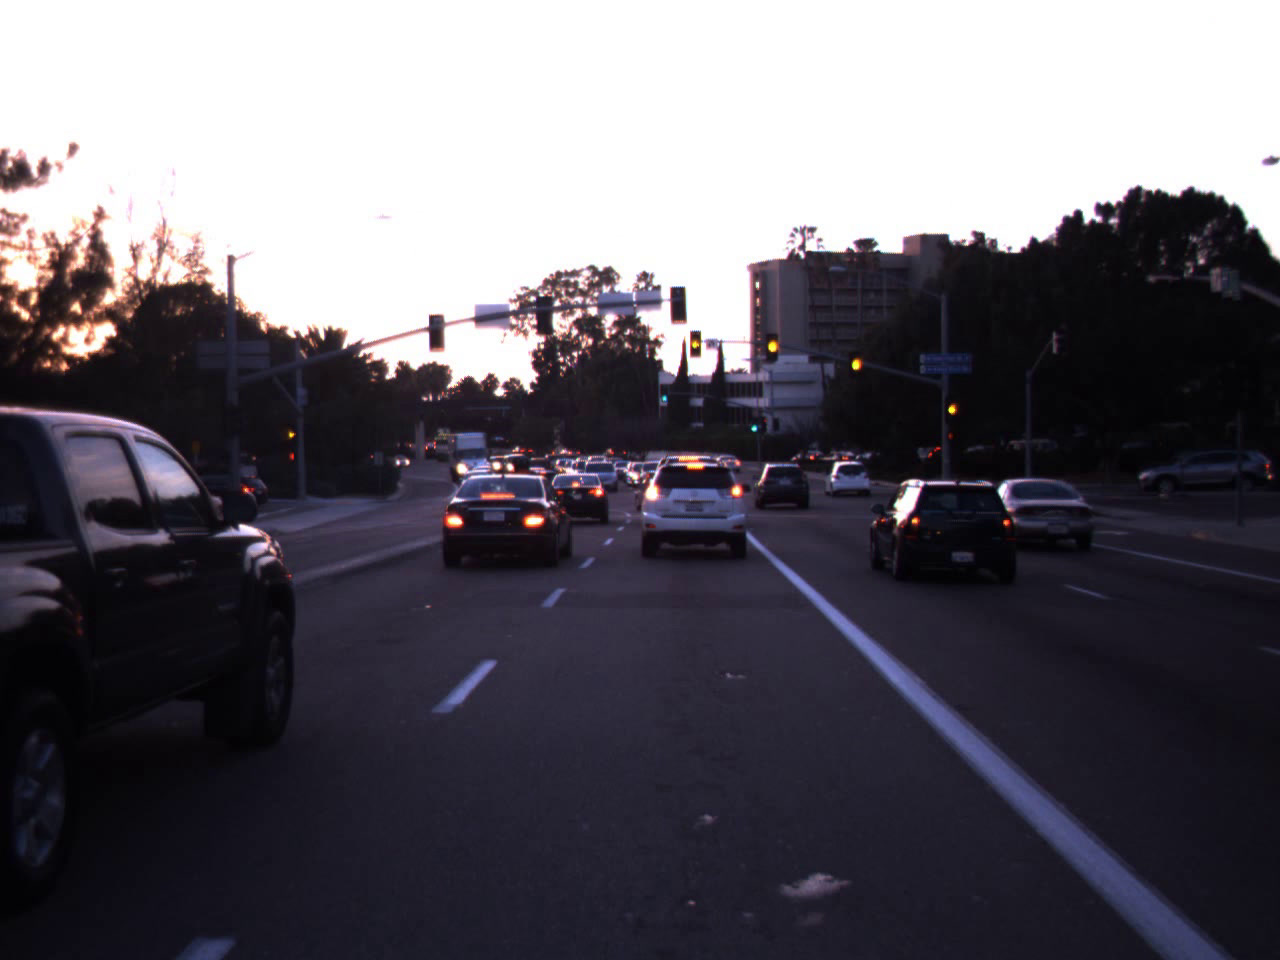go: (658, 382, 670, 402), (748, 413, 760, 433)
warning: (682, 321, 709, 361), (762, 322, 783, 367), (846, 344, 867, 380), (943, 395, 961, 422), (286, 425, 298, 443)
